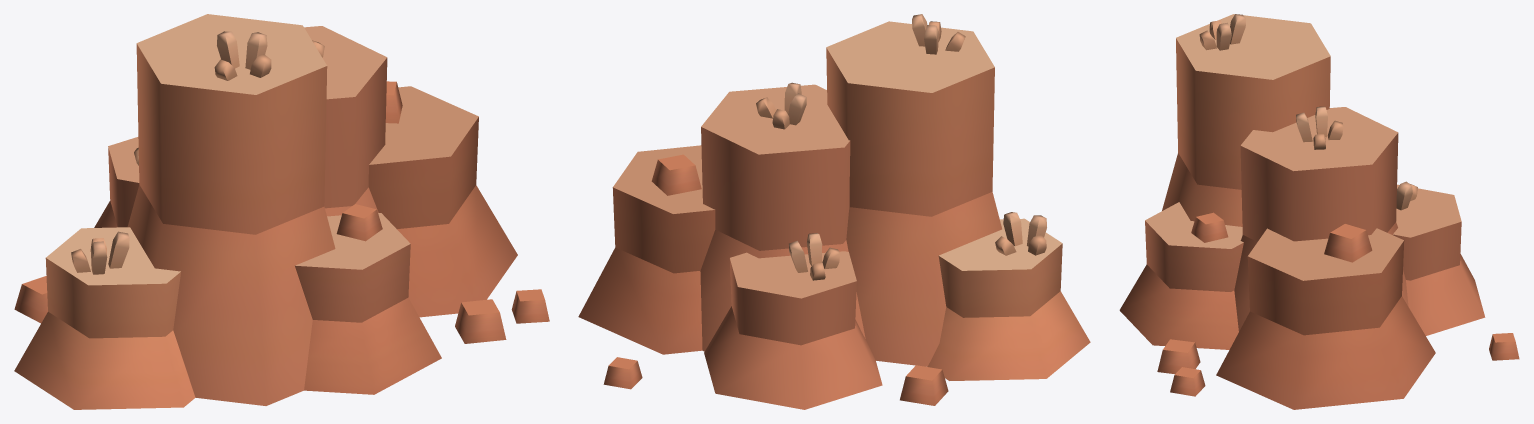
File: rocks-sand-a.glb
The picture shows the model from 3 angles, left to right: view 1: azimuth 30°, elevation 25°; view 2: azimuth 150°, elevation 25°; view 3: azimuth 270°, elevation 25°; orthographic projection. The views are drawn at different scales.
Parts seen in each view (by area): view 1: rocks-sand-a; view 2: rocks-sand-a; view 3: rocks-sand-a.
Boxes of the visible parts, box(x1,y1,x2,y2) form: rocks-sand-a: box(14, 14, 549, 409); rocks-sand-a: box(578, 14, 1090, 409); rocks-sand-a: box(1119, 14, 1519, 409).
Size of the model in its own units: 5.11 by 3.21 by 4.39.
Materials: 1 (1 with a texture image).
